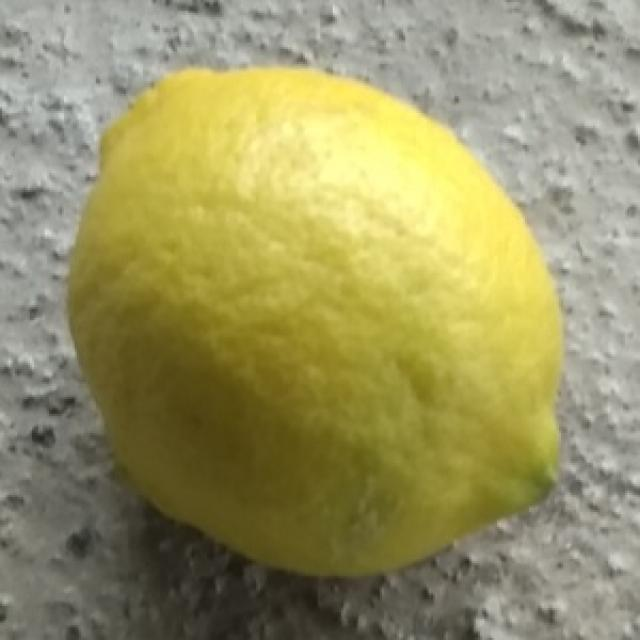Ripe: (55, 52, 576, 583)
